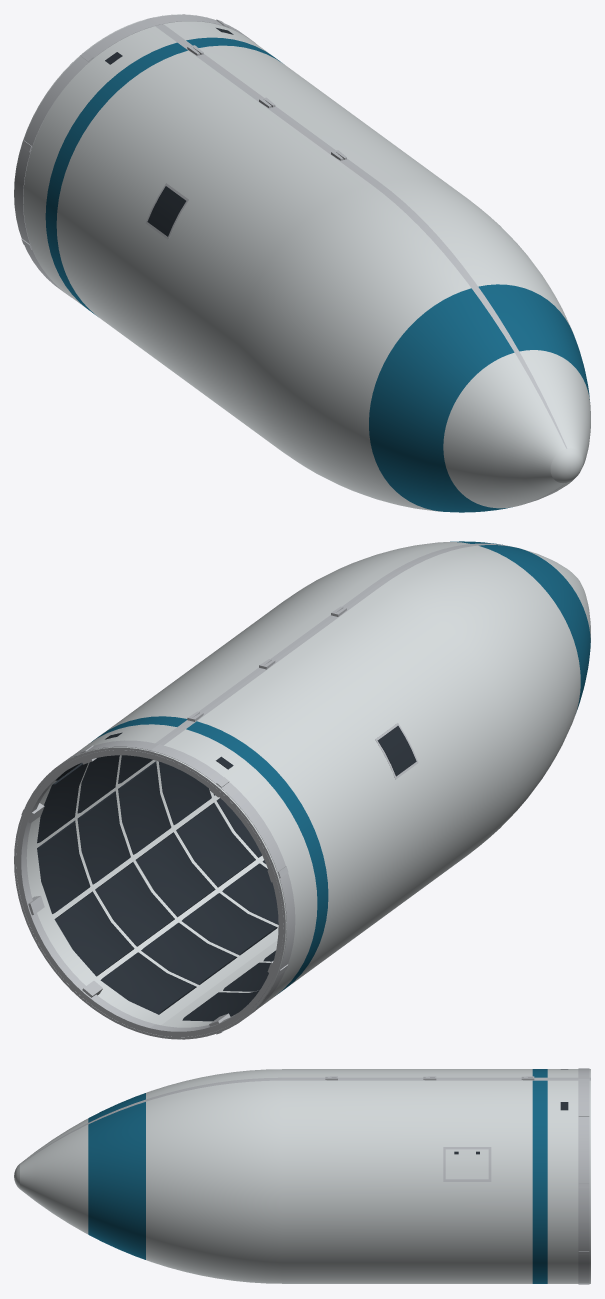
File: fairing_large.fbx
3 renders of one model, top to bottom at view 1: azimuth 30°, elevation 25°; view 2: azimuth 150°, elevation 25°; view 3: azimuth 270°, elevation 25°, orthographic. The views are drawn at different scales.
Visible parts, largest first — view 1: fairing_large_half_b_LOD0, fairing_large_half_a_LOD0; view 2: fairing_large_half_b_LOD0, fairing_large_half_a_LOD0; view 3: fairing_large_half_a_LOD0, fairing_large_half_b_LOD0.
Boxes of the visible parts, box(x1,y1,x2,y2) form: fairing_large_half_b_LOD0: box(14, 18, 571, 512); fairing_large_half_a_LOD0: box(150, 14, 590, 501); fairing_large_half_b_LOD0: box(150, 544, 590, 1039); fairing_large_half_a_LOD0: box(14, 541, 505, 1035); fairing_large_half_a_LOD0: box(14, 1077, 590, 1284); fairing_large_half_b_LOD0: box(15, 1068, 590, 1170).
Size of what is drawn, in the model's own units: 5.41 by 5.49 by 14.5.
